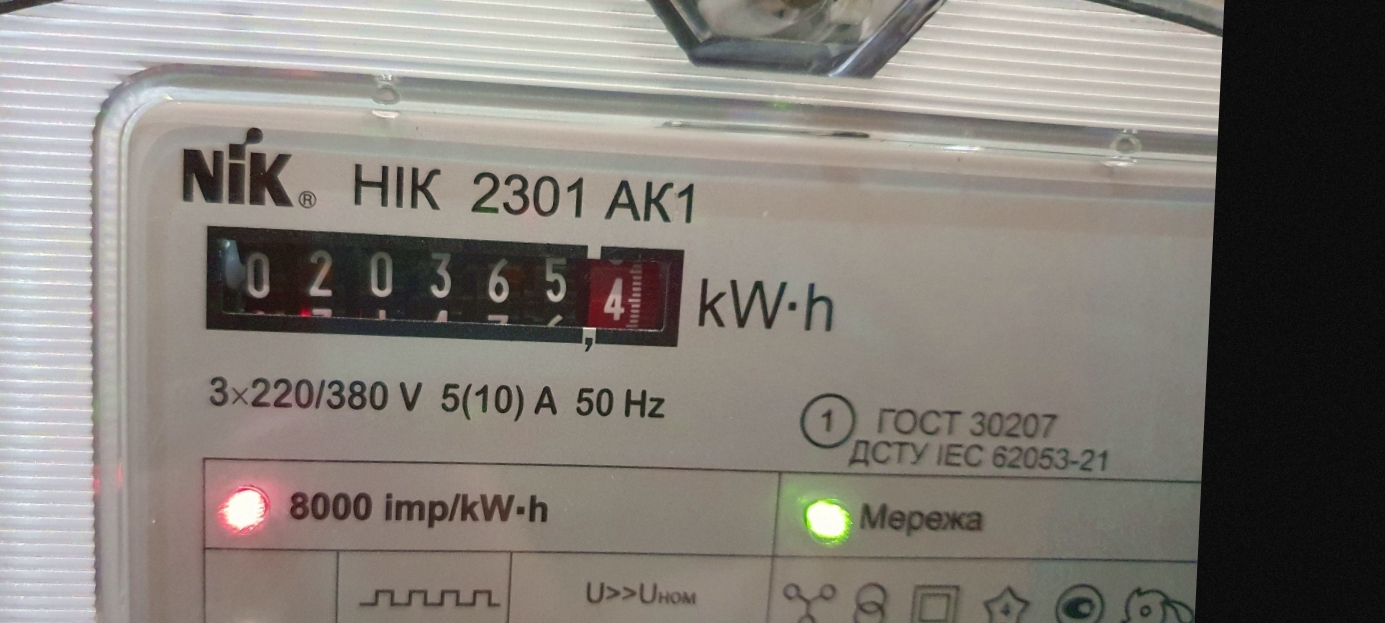0: (240, 246, 276, 303), (366, 249, 398, 300)
2: (304, 246, 337, 299)
3: (425, 250, 456, 300)
4: (601, 273, 626, 322)
5: (542, 256, 571, 304)
6: (484, 253, 512, 305)
screen: (188, 207, 701, 369)
